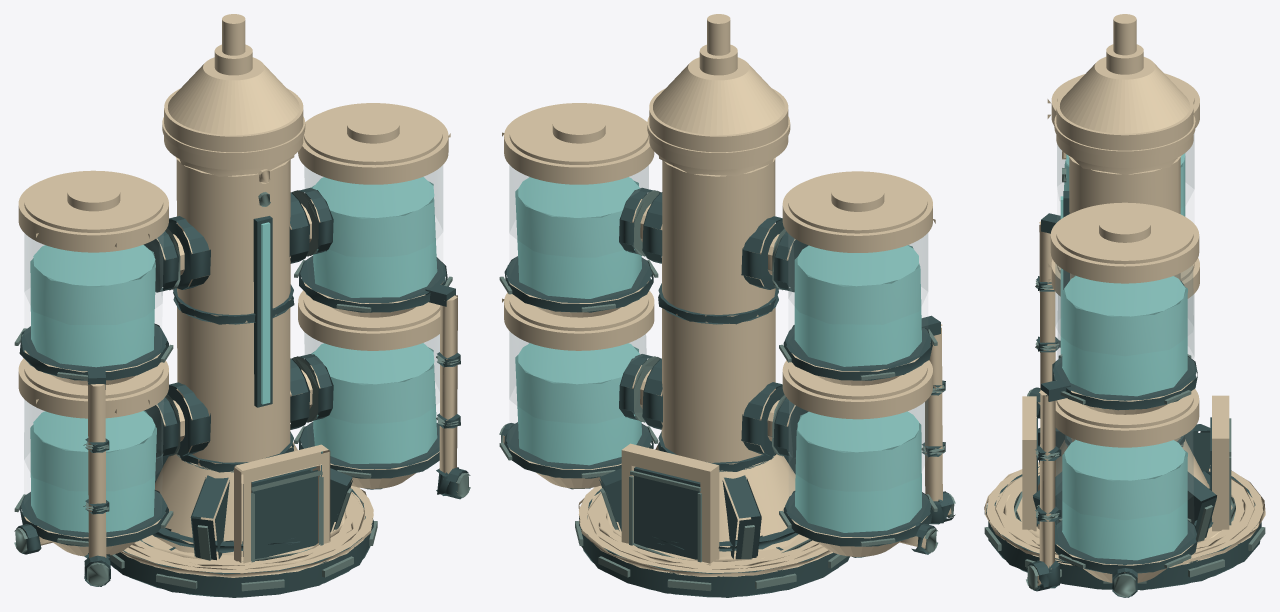
The model's file is Vat_T3.glb.
3 renders of one model, left to right at view 1: azimuth 30°, elevation 25°; view 2: azimuth 150°, elevation 25°; view 3: azimuth 270°, elevation 25°, orthographic.
Parts seen in each view (by area): view 1: Vat_T3; view 2: Vat_T3; view 3: Vat_T3.
Boxes of the visible parts, <box> form: Vat_T3: <box>14,14,470,597</box>; Vat_T3: <box>499,14,955,597</box>; Vat_T3: <box>984,14,1265,597</box>.
Bounding box in the file's own units: 6.75 × 7.91 × 3.89.
